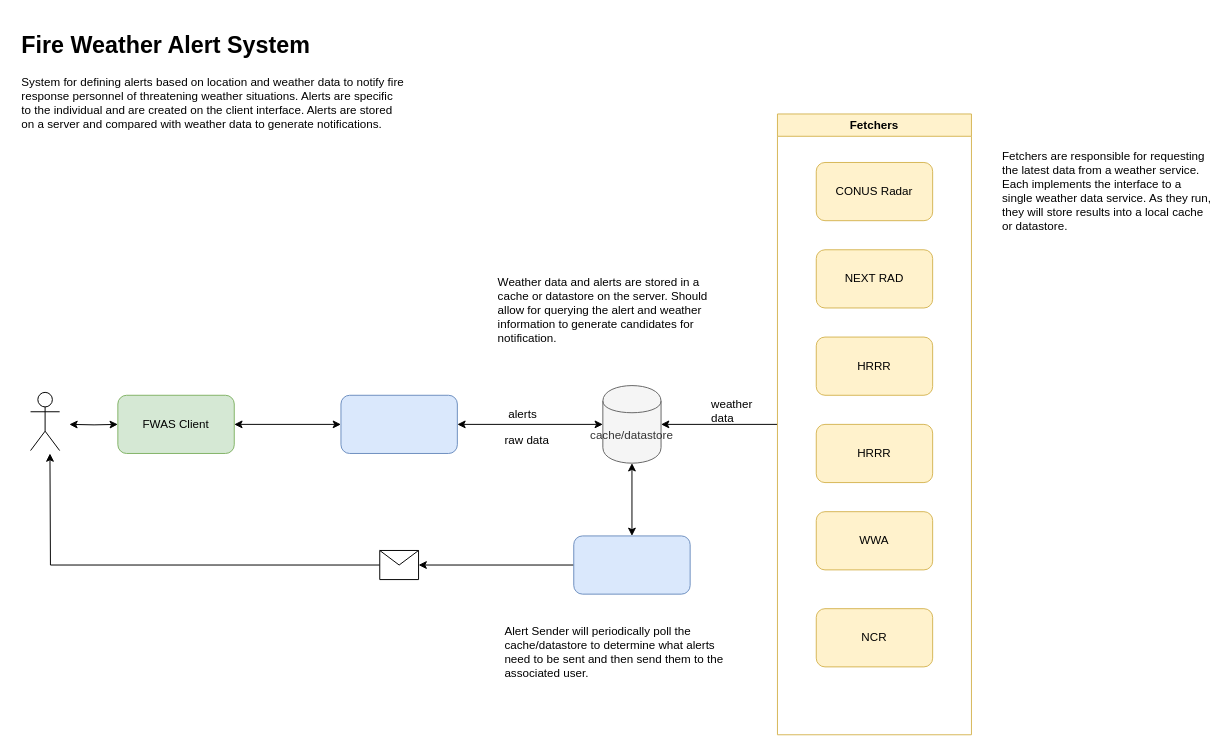
This 1231x752 diagram has some shape labels left out. Here are the shapes that lost their labels. From the top down, the centre of each, then its label:
point 398,423: FWAS server
point 631,564: Alert Sender
